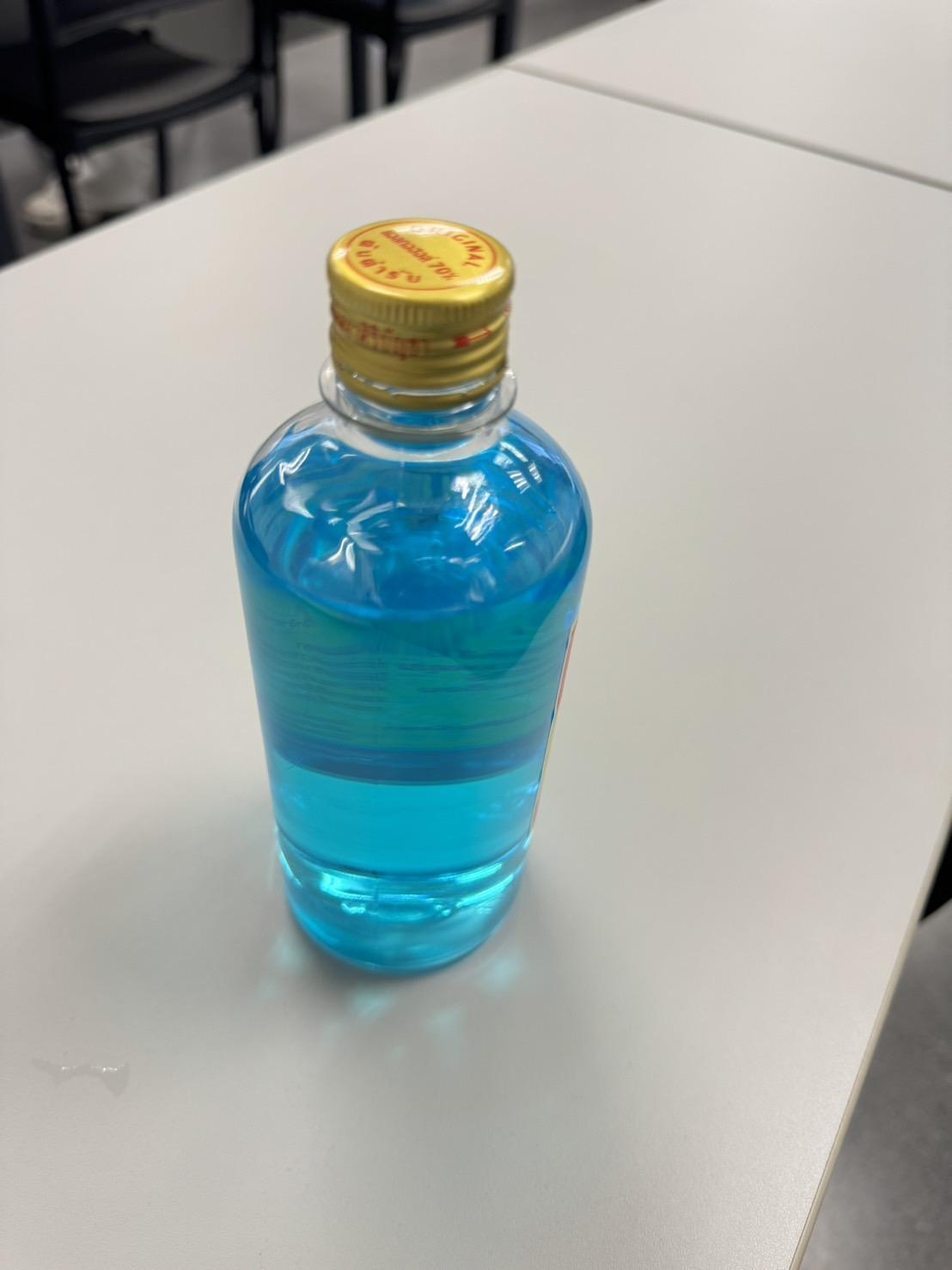Bottle: (234, 218, 591, 970)
